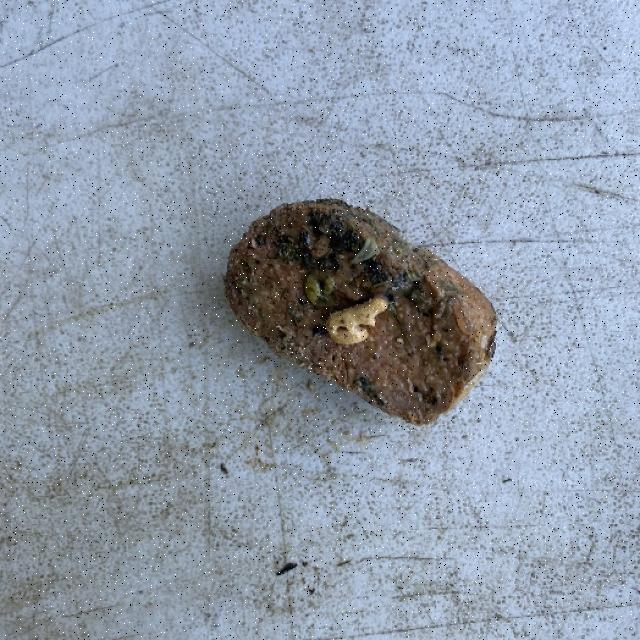organik: (216, 202, 512, 420)
